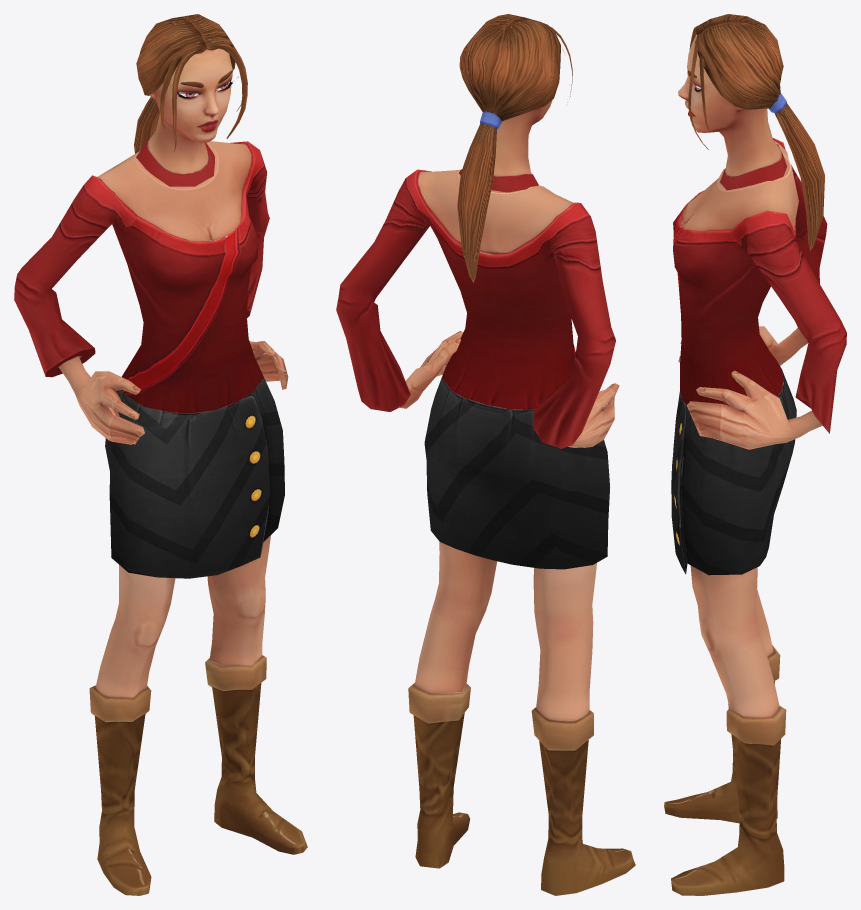
The picture shows the model from 3 angles, left to right: view 1: azimuth 30°, elevation 25°; view 2: azimuth 150°, elevation 25°; view 3: azimuth 270°, elevation 25°; orthographic projection.
Parts seen in each view (by area): view 1: G2_down002, G2_Top002, G2_head002, G2_hair002; view 2: G2_down002, G2_Top002, G2_hair002, G2_head002; view 3: G2_down002, G2_Top002, G2_hair002, G2_head002.
Part boxes in pixels (x1,y1,x2,y2): G2_down002: (89,378,307,895); G2_Top002: (14,141,288,444); G2_head002: (136,48,238,186); G2_hair002: (134,14,247,153); G2_down002: (408,370,635,895); G2_Top002: (336,169,619,448); G2_hair002: (457,14,572,282); G2_head002: (459,100,552,192); G2_down002: (664,370,796,895); G2_Top002: (673,138,846,449); G2_hair002: (688,14,824,250); G2_head002: (678,36,786,190).
Size of the model in its own units: 0.5398 by 1.65 by 0.331.
5 materials, 4 textured.
